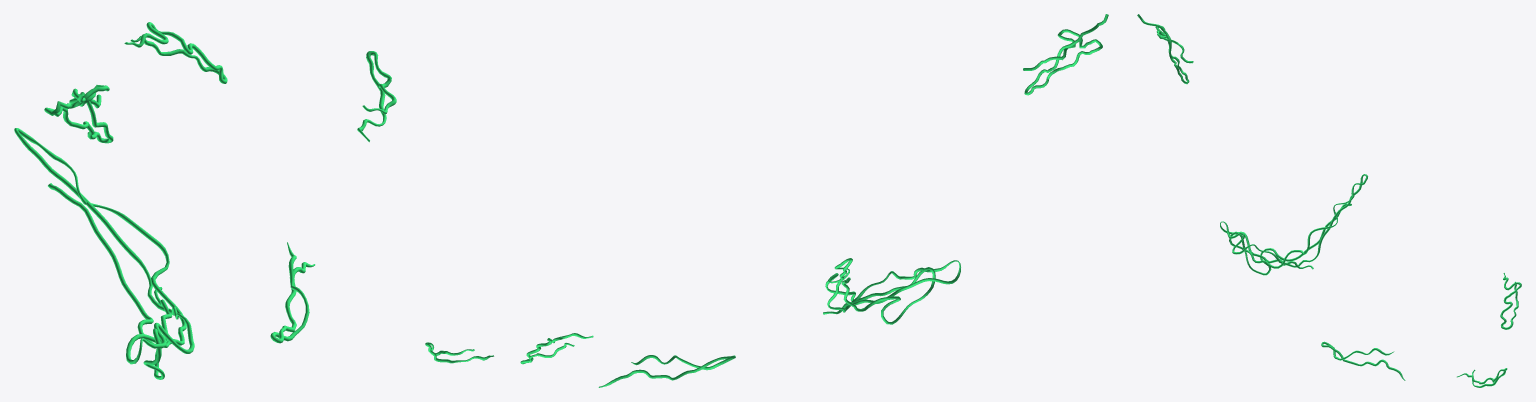
The model's file is Mitochondria_DNA.fbx.
3 views of the same model, side by side, from view 1: azimuth 30°, elevation 25°; view 2: azimuth 150°, elevation 25°; view 3: azimuth 270°, elevation 25° (orthographic). The views are drawn at different scales.
Parts seen in each view (by area): view 1: Mitochondria_DNA_2, Mitochondria_DNA_5, Mitochondria_DNA_4, Mitochondria_DNA_3, Mitochondria_DNA_1; view 2: Mitochondria_DNA_2, Mitochondria_DNA_5, Mitochondria_DNA_3; view 3: Mitochondria_DNA_2, Mitochondria_DNA_5, Mitochondria_DNA_3, Mitochondria_DNA_4.
Boxes of the visible parts, box(x1,y1,x2,y2) form: Mitochondria_DNA_2: box(14, 128, 194, 379); Mitochondria_DNA_5: box(44, 85, 113, 143); Mitochondria_DNA_4: box(124, 22, 227, 83); Mitochondria_DNA_3: box(270, 242, 315, 343); Mitochondria_DNA_1: box(357, 51, 396, 142); Mitochondria_DNA_2: box(823, 258, 960, 324); Mitochondria_DNA_5: box(1023, 14, 1108, 95); Mitochondria_DNA_3: box(598, 355, 735, 387); Mitochondria_DNA_2: box(1220, 174, 1367, 275); Mitochondria_DNA_5: box(1137, 14, 1193, 84); Mitochondria_DNA_3: box(1321, 341, 1405, 380); Mitochondria_DNA_4: box(1500, 273, 1521, 329).
Size of the model in its own units: 209 by 145 by 205.
